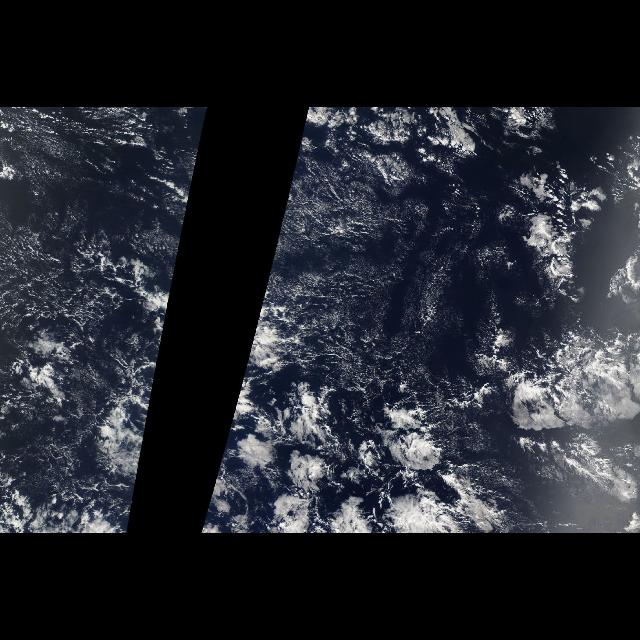Flower: (200, 305, 638, 533), (100, 305, 168, 533)
Gravel: (21, 208, 188, 394), (256, 170, 408, 350)
Sugar: (236, 112, 502, 394), (8, 112, 206, 394)
